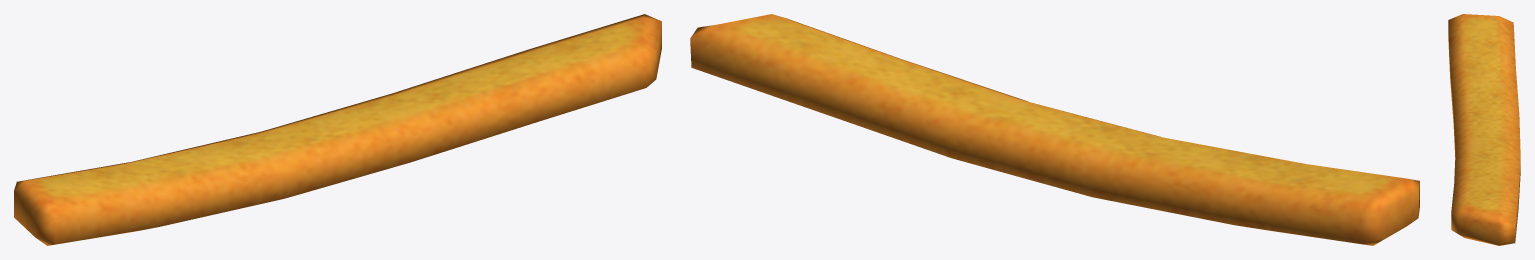
File: SM_FingerFries_01.fbx
The picture shows the model from 3 angles, left to right: view 1: azimuth 30°, elevation 25°; view 2: azimuth 150°, elevation 25°; view 3: azimuth 270°, elevation 25°; orthographic projection. The views are drawn at different scales.
Parts seen in each view (by area): view 1: SM_FingerFries_01_LOD0; view 2: SM_FingerFries_01_LOD0; view 3: SM_FingerFries_01_LOD0.
Part boxes in pixels (box(x1,y1,x2,y2)): SM_FingerFries_01_LOD0: box(14, 14, 661, 245); SM_FingerFries_01_LOD0: box(690, 14, 1419, 245); SM_FingerFries_01_LOD0: box(1448, 14, 1520, 245).
Bounding box in the file's own units: 13.34 × 1.86 × 1.39.
1 material, 1 textured.
